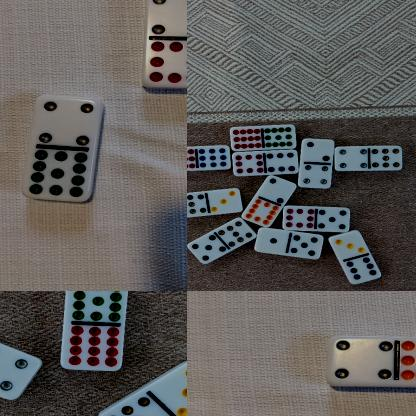pip-1: (254, 227, 290, 255)
pip-10: (242, 198, 280, 227), (398, 336, 416, 387)
pip-11: (23, 148, 95, 200), (66, 291, 130, 323), (264, 124, 298, 148)
pip-12: (62, 322, 126, 371), (229, 126, 264, 150), (187, 146, 197, 171)
pip-2: (265, 175, 298, 204), (301, 137, 336, 163)
pip-3: (158, 361, 187, 416), (328, 229, 368, 259), (209, 186, 243, 215)
pip-4: (32, 94, 103, 146), (330, 336, 396, 386), (0, 345, 42, 399), (147, 0, 187, 38), (335, 145, 370, 171), (299, 162, 333, 188)
pip-5: (188, 233, 228, 264), (290, 231, 324, 260), (316, 206, 352, 232)
pip-6: (346, 256, 382, 283), (265, 150, 301, 174)
pip-7: (99, 395, 173, 416), (218, 217, 258, 247), (370, 144, 404, 171), (187, 191, 208, 217)
pip-8: (141, 36, 187, 88), (283, 204, 316, 230), (232, 151, 266, 176)
pip-9: (197, 145, 231, 171)
